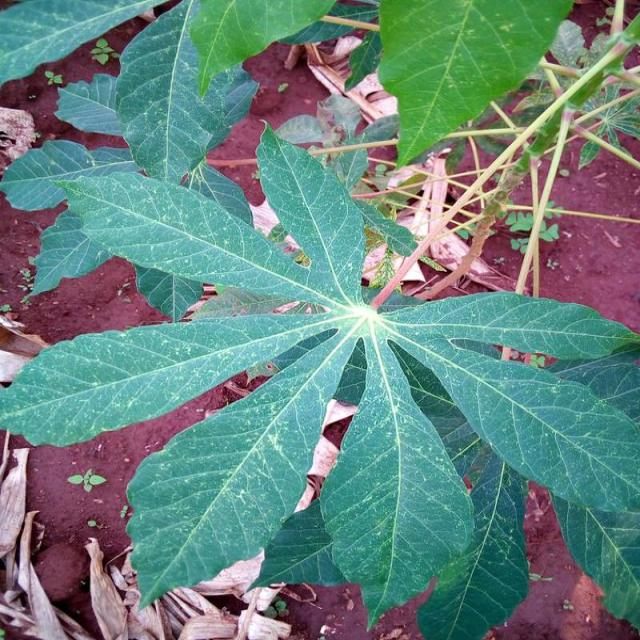cassava leaf: (1, 1, 638, 636), (376, 0, 574, 171)
